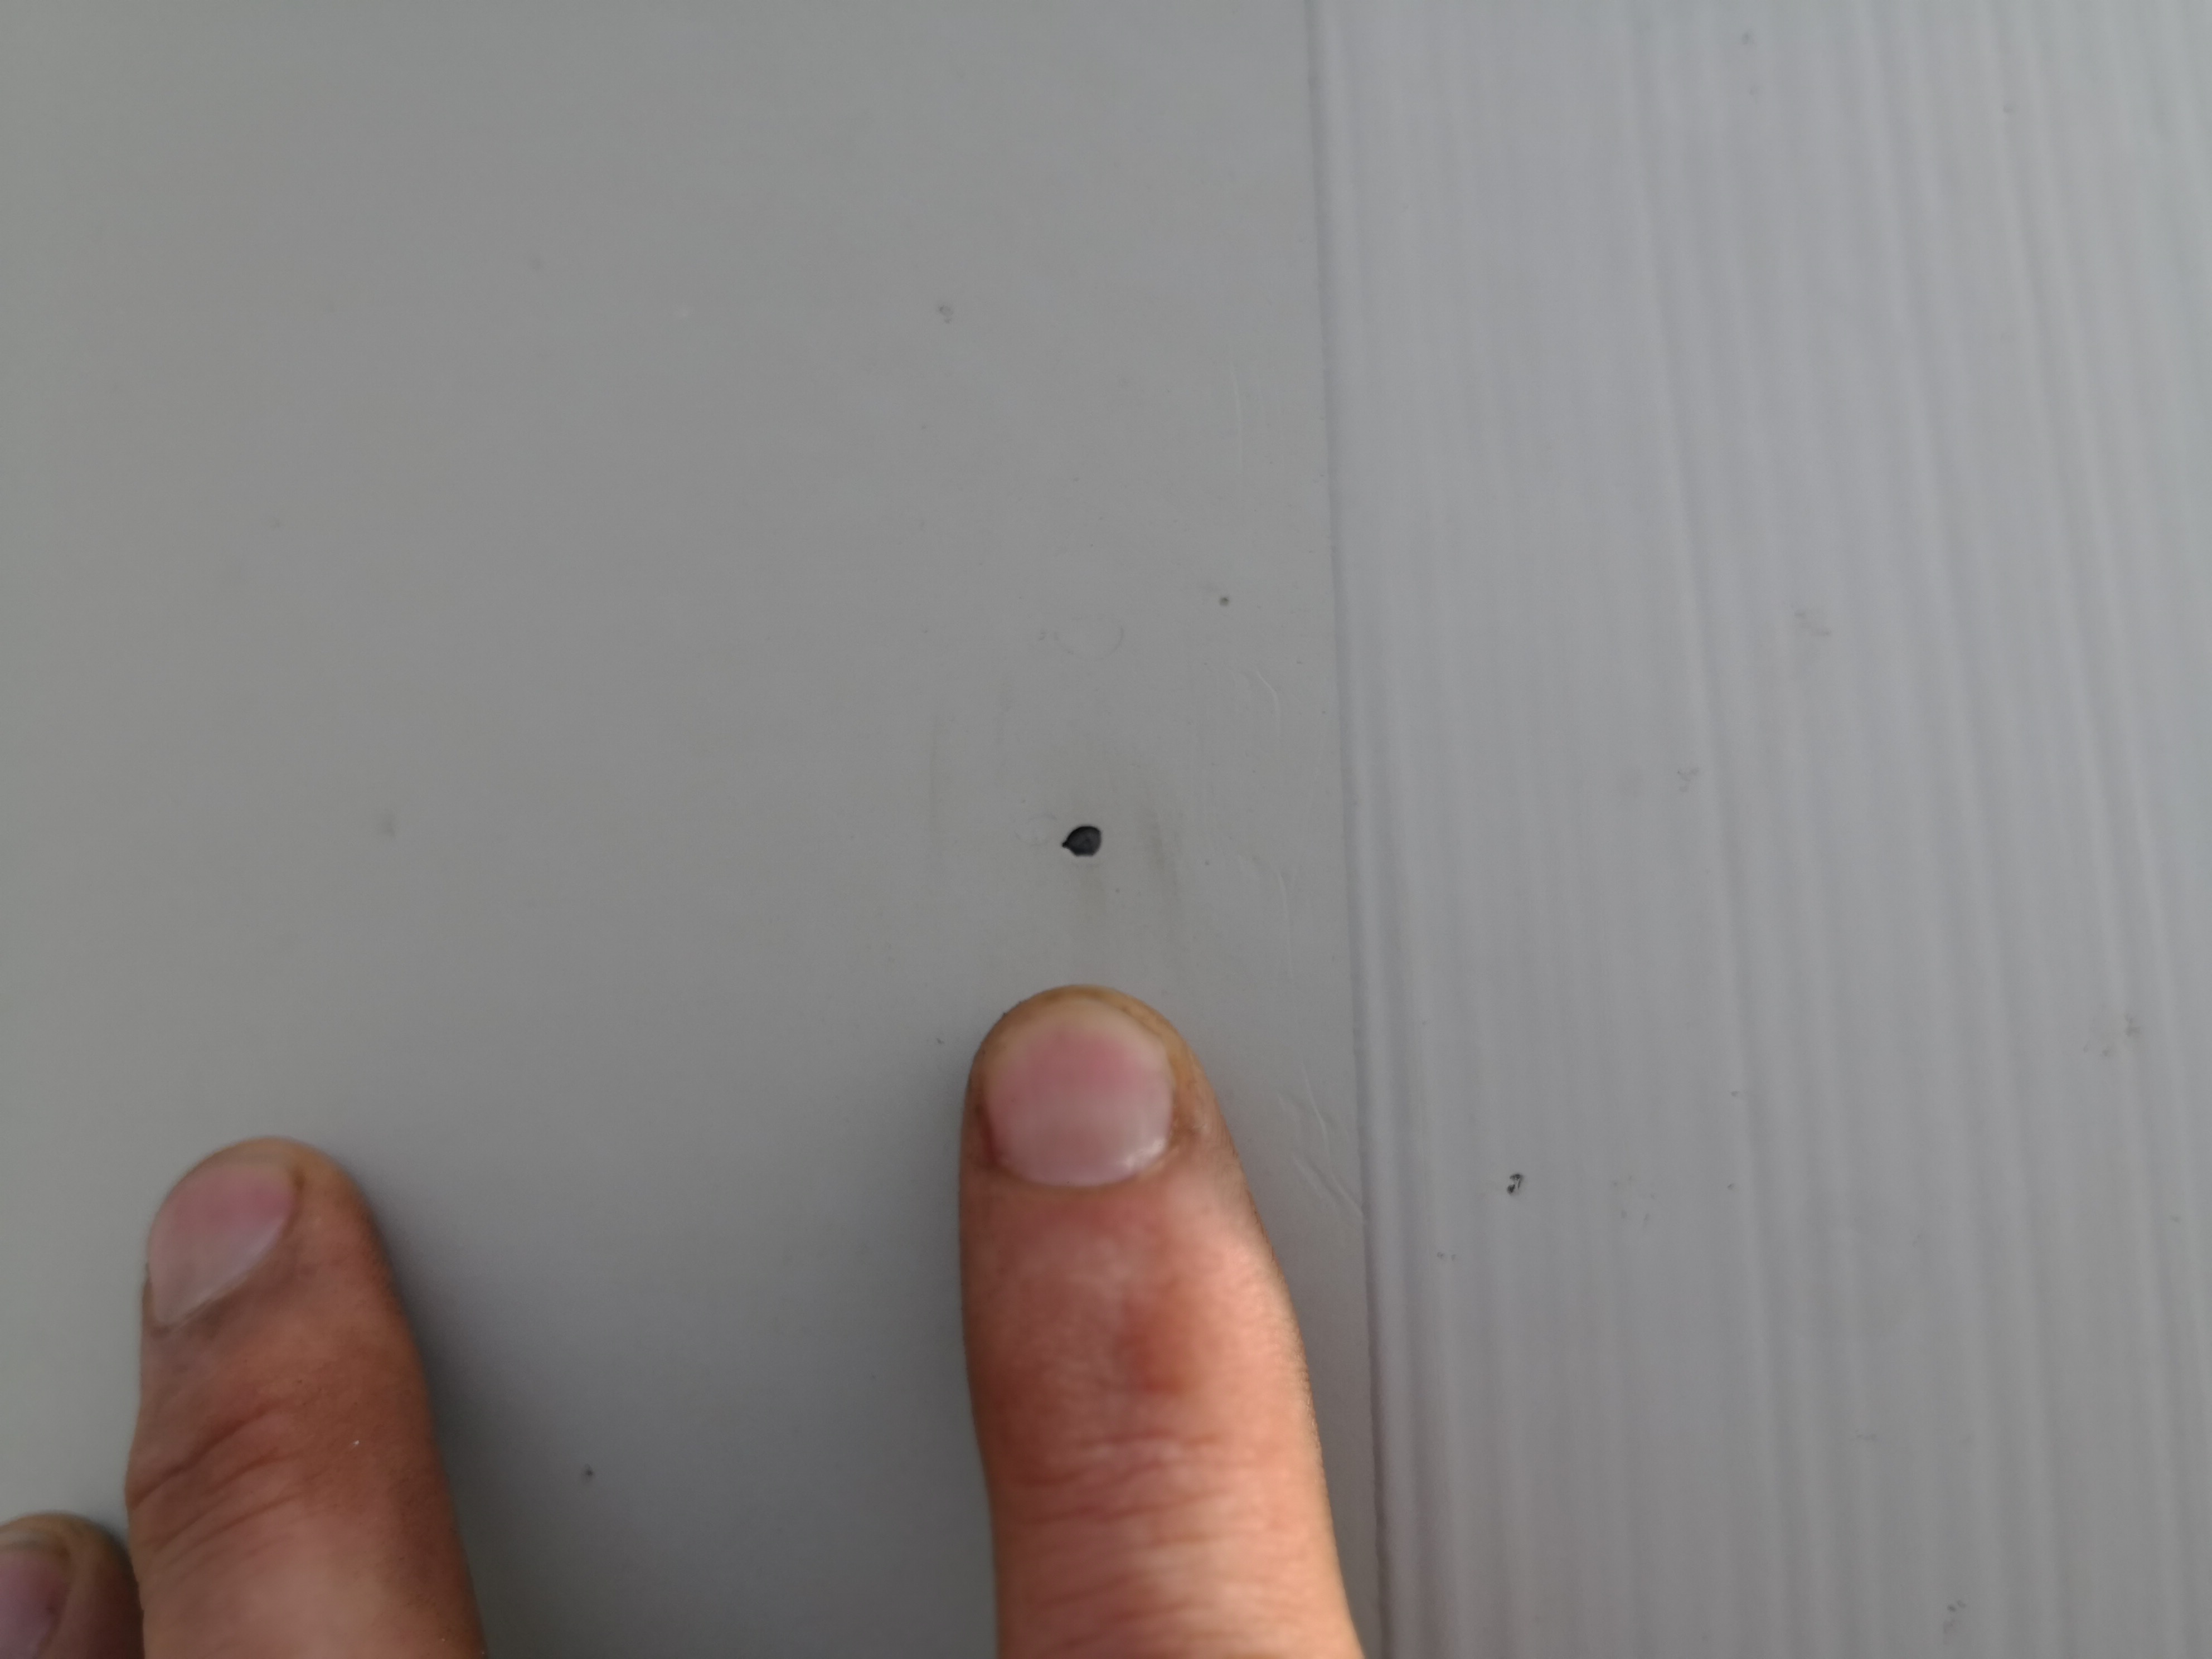SD: (1026, 807, 1113, 861)
